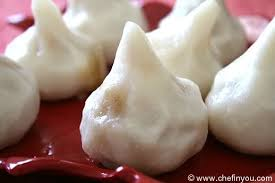modak: (89, 12, 212, 174), (207, 6, 275, 160), (4, 2, 111, 97)
